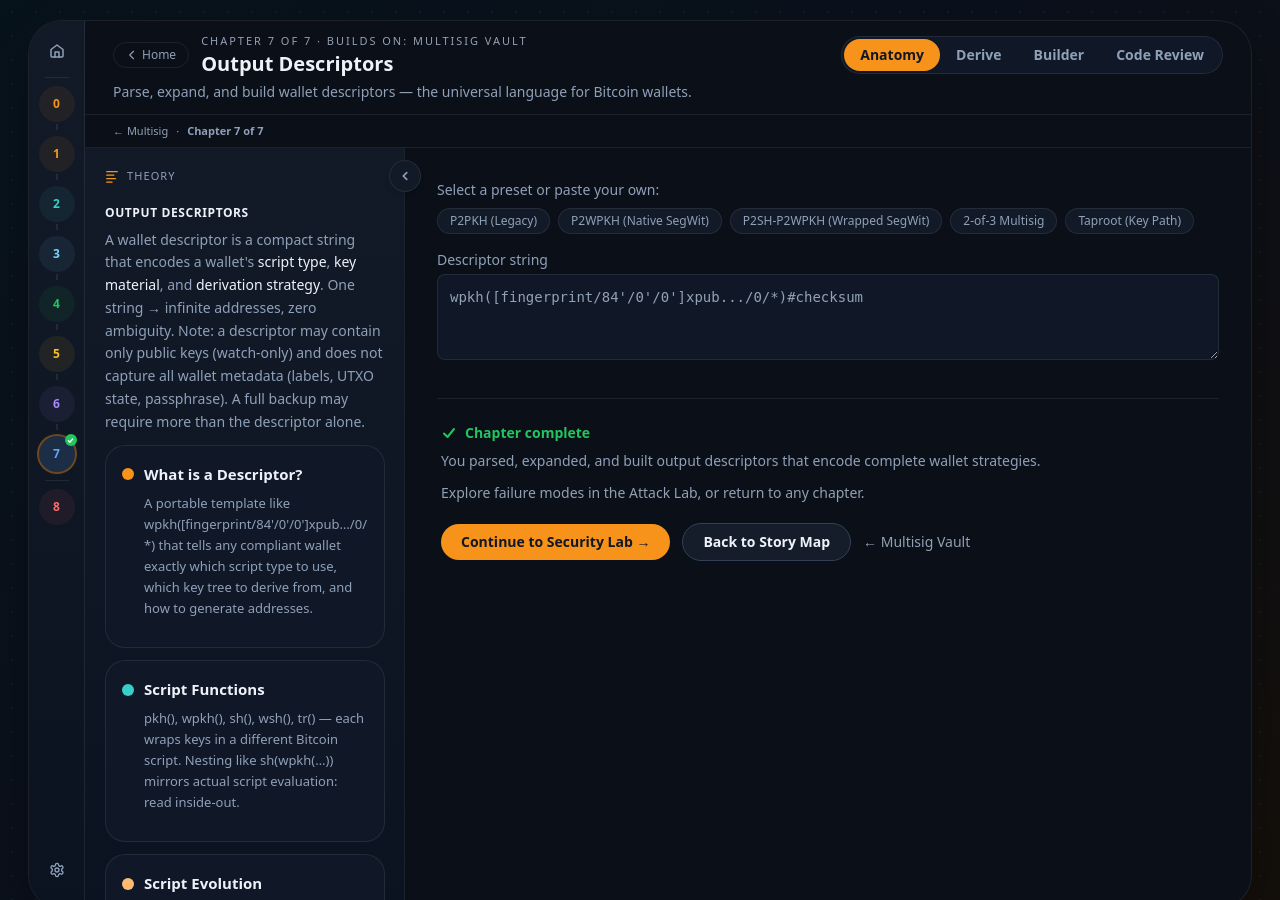
OutputDescriptors › AC6: Derive tab shows guard when no descriptor parsed
This screenshot has width=1280, height=900.
Click the tab "Derive": (979,55) [940,39,1018,71]
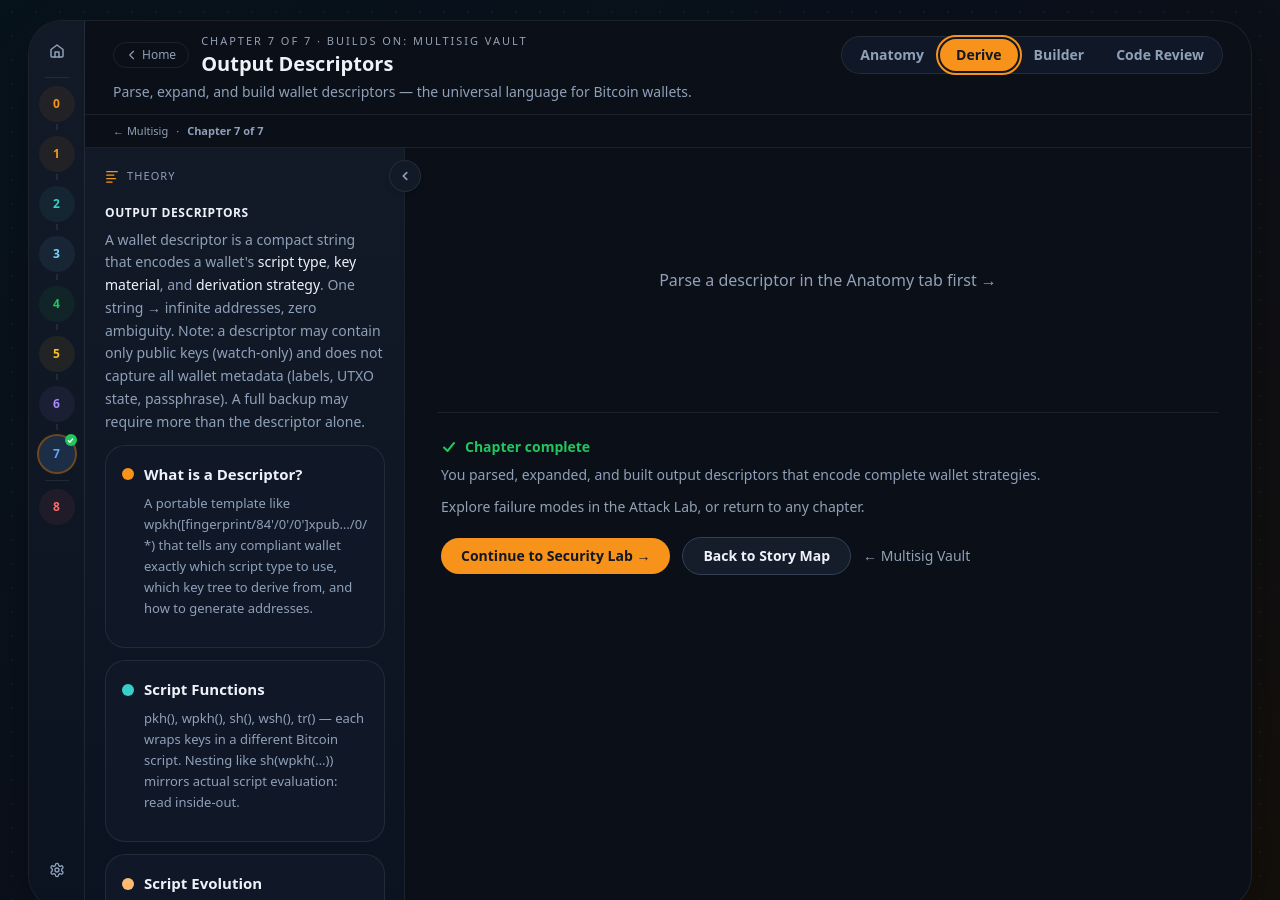
Expected: the text "Parse a descriptor in the Anatomy tab first →" is shown, [659,268,997,292]
